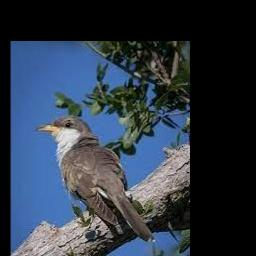Cuckoo: (36, 116, 156, 242)
